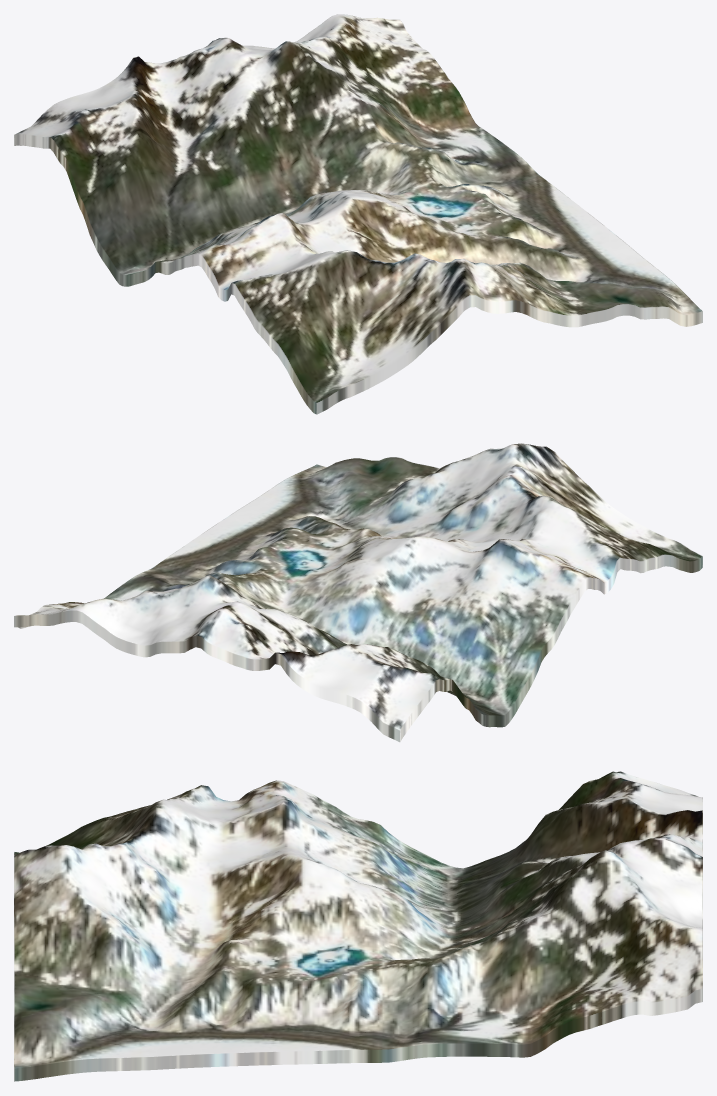
3 renders of one model, top to bottom at view 1: azimuth 30°, elevation 25°; view 2: azimuth 150°, elevation 25°; view 3: azimuth 270°, elevation 25°, orthographic. The views are drawn at different scales.
Parts seen in each view (by area): view 1: tile; view 2: tile; view 3: tile.
Part boxes in pixels (bbox=[...]): tile: bbox=[14, 14, 702, 414]; tile: bbox=[14, 443, 702, 742]; tile: bbox=[14, 771, 702, 1081].
Size of the model in its own units: 4050 by 1409 by 5505.
1 material, 1 textured.
